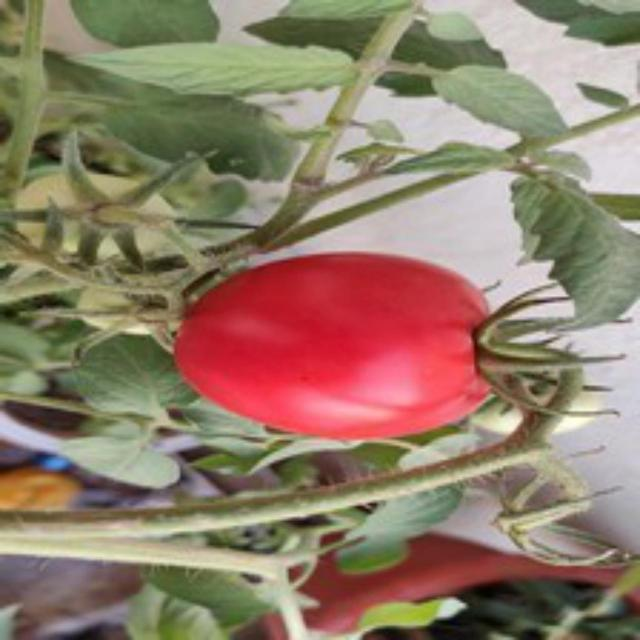tomato: (172, 246, 509, 444)
